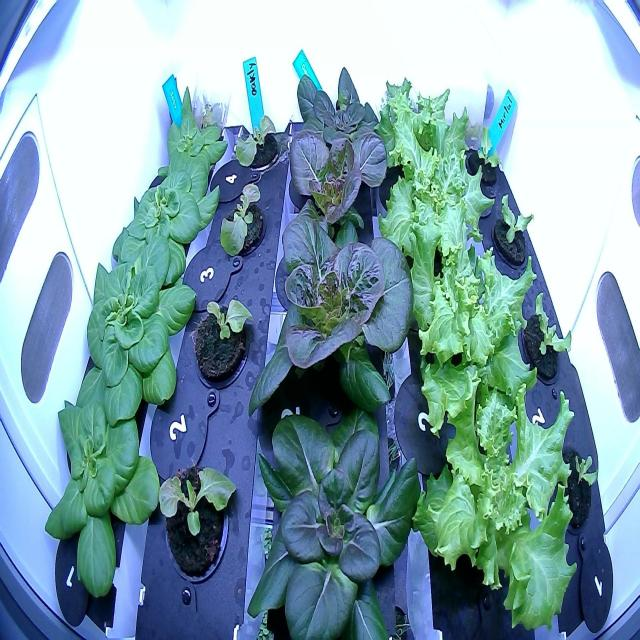young: (241, 392, 428, 640), (241, 199, 416, 436), (36, 352, 167, 604), (70, 217, 202, 428), (104, 147, 223, 290), (278, 123, 398, 264), (281, 57, 389, 185), (148, 77, 231, 190)
